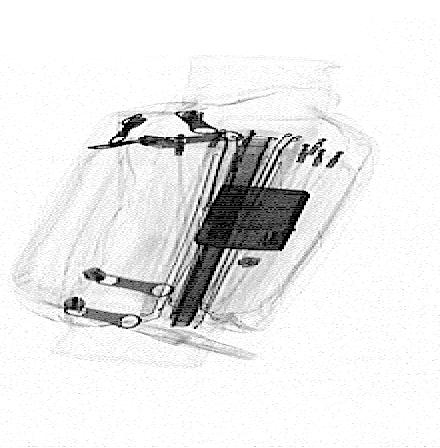Lighter: (192, 184, 313, 253)
